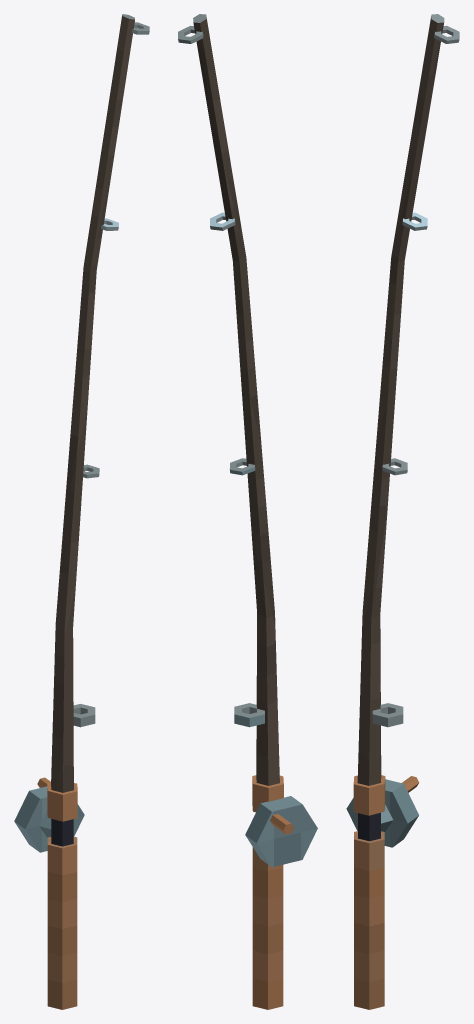
File: FishingRod.fbx
3 views of the same model, side by side, from view 1: azimuth 30°, elevation 25°; view 2: azimuth 210°, elevation 25°; view 3: azimuth 330°, elevation 25° (orthographic). The views are drawn at different scales.
Visible parts, largest first — view 1: Rod, Reel; view 2: Rod, Reel; view 3: Rod, Reel.
Part boxes in pixels (left/top/right/bottom): Rod: left=47, top=14, right=149, bottom=1009; Reel: left=14, top=777, right=84, bottom=852; Rod: left=178, top=14, right=283, bottom=1009; Reel: left=245, top=796, right=317, bottom=867; Rod: left=353, top=14, right=459, bottom=1009; Reel: left=346, top=776, right=419, bottom=847.
Bounding box in the file's own units: 28.42 × 226 × 16.6.
2 materials, 2 textured.
